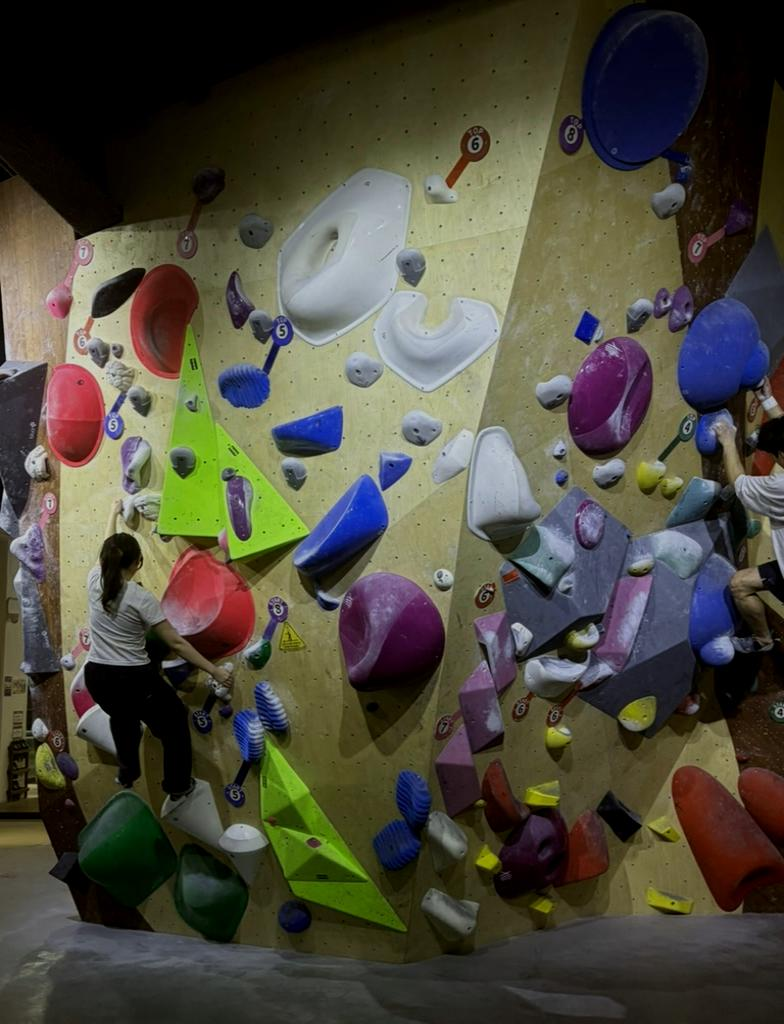crimp: (432, 429, 473, 483), (227, 271, 254, 328), (314, 580, 338, 610), (591, 324, 602, 342)
downhold: (402, 410, 441, 445), (345, 352, 383, 387), (651, 182, 685, 219), (536, 374, 571, 409), (239, 214, 272, 248), (396, 248, 425, 286), (594, 458, 625, 488), (626, 298, 652, 333), (169, 446, 195, 478), (281, 458, 306, 489), (250, 309, 272, 343), (128, 385, 151, 416), (88, 338, 108, 367)
jib: (434, 568, 453, 590), (552, 439, 567, 459), (555, 470, 568, 484), (308, 837, 321, 848)
jug: (509, 525, 574, 588), (667, 478, 719, 527), (526, 657, 586, 697), (218, 363, 268, 407), (11, 524, 43, 581), (379, 452, 411, 490), (725, 197, 751, 234), (243, 638, 271, 669), (638, 460, 665, 492), (26, 446, 48, 480), (135, 495, 160, 519), (546, 726, 571, 749), (627, 557, 653, 576), (660, 476, 683, 497)
ledge: (279, 168, 410, 346), (582, 4, 707, 170), (375, 292, 499, 391), (340, 573, 444, 690), (79, 793, 176, 906), (161, 547, 255, 661), (293, 476, 384, 577), (467, 426, 539, 541), (458, 661, 503, 752), (436, 726, 480, 816), (482, 759, 530, 831), (273, 406, 342, 455), (92, 269, 144, 318), (651, 530, 702, 578), (596, 790, 641, 841), (646, 887, 691, 912)
pinch: (226, 474, 251, 540), (525, 780, 559, 807), (647, 816, 679, 842), (47, 284, 71, 318)
pocket: (494, 809, 567, 899), (669, 285, 693, 331), (653, 288, 671, 318)
sidepull: (569, 336, 651, 456), (130, 266, 198, 377), (47, 364, 104, 465), (595, 577, 652, 672), (397, 770, 430, 831), (255, 681, 287, 732), (234, 709, 264, 762), (35, 744, 65, 789)
sloper: (678, 298, 770, 412), (175, 844, 247, 940), (689, 554, 740, 665), (161, 780, 223, 847), (219, 824, 266, 885), (77, 705, 115, 758), (278, 899, 310, 933)
tape: (445, 126, 490, 188), (657, 413, 696, 460), (262, 316, 292, 375), (177, 199, 203, 257), (688, 227, 727, 263), (64, 239, 93, 286), (547, 685, 579, 726), (225, 762, 249, 806), (262, 597, 287, 639), (104, 392, 126, 439), (193, 694, 216, 733), (559, 115, 582, 154), (435, 709, 461, 739), (39, 492, 57, 529), (74, 318, 91, 354), (475, 581, 497, 608), (70, 630, 90, 658), (512, 693, 532, 720), (501, 569, 521, 585), (48, 731, 62, 750)
undercling: (672, 766, 783, 909), (554, 811, 608, 886), (475, 611, 517, 693), (373, 819, 420, 869), (122, 437, 150, 493), (618, 695, 656, 731)
volume: (582, 515, 733, 737), (261, 745, 405, 930), (501, 487, 630, 655), (160, 325, 222, 537), (215, 425, 308, 556), (14, 568, 58, 677)
